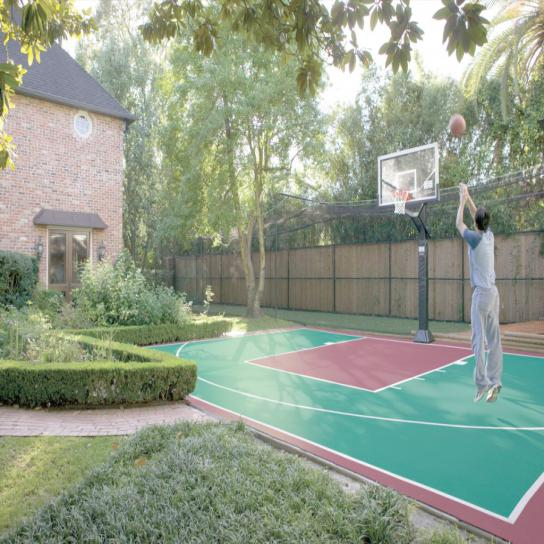basketball-hoop: (387, 187, 411, 215)
